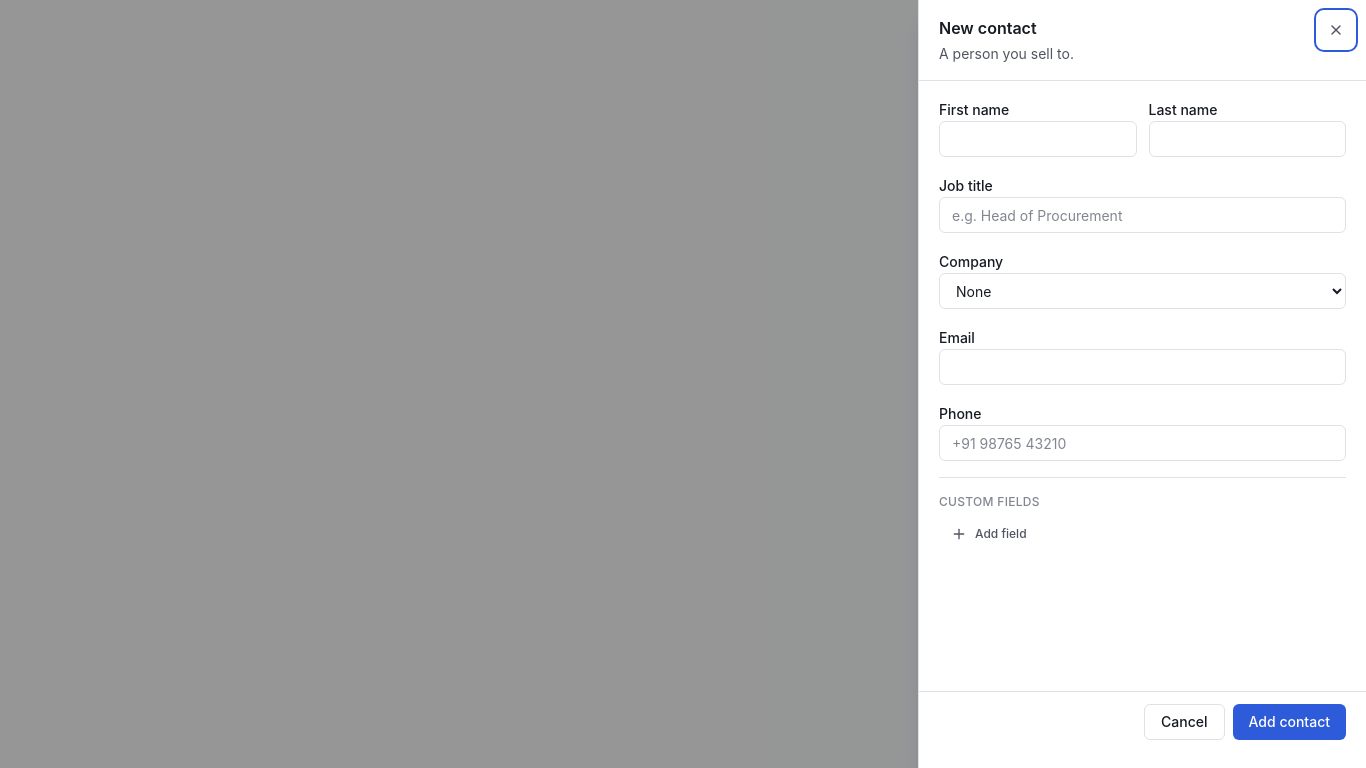
ContactSheet › asks before adding someone who may already be there
The width and height of the screenshot is (1366, 768).
Later steps or results of the test are not shown.
Type "Priya" into the field labelled "First name".
click(1038, 139); type("Priya")  # box x1=939 y1=121 x2=1136 y2=157
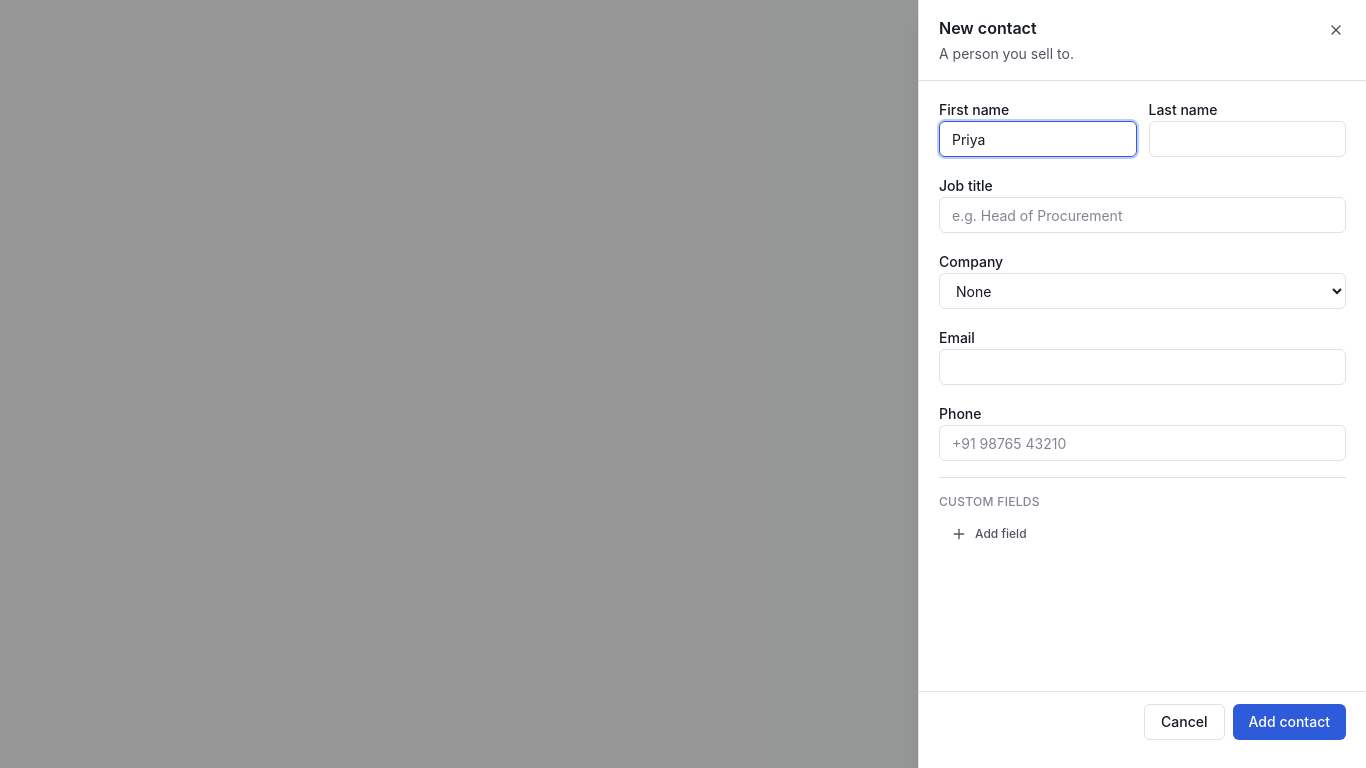
Type "priya@zenith.in" into the field labelled "Email".
click(1142, 367); type("priya@zenith.in")  # box x1=939 y1=349 x2=1346 y2=385
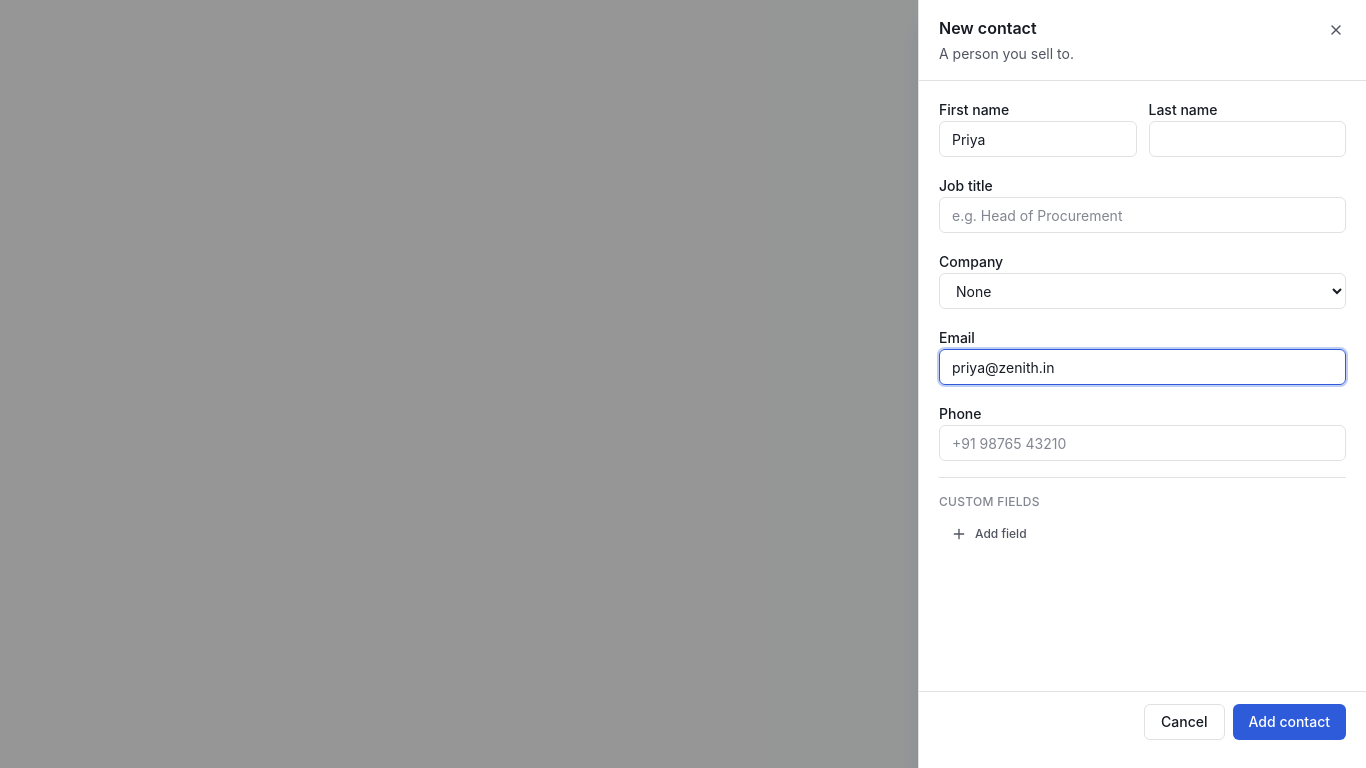
Click the button "Add contact".
click(1289, 722)  # box x1=1232 y1=704 x2=1346 y2=740
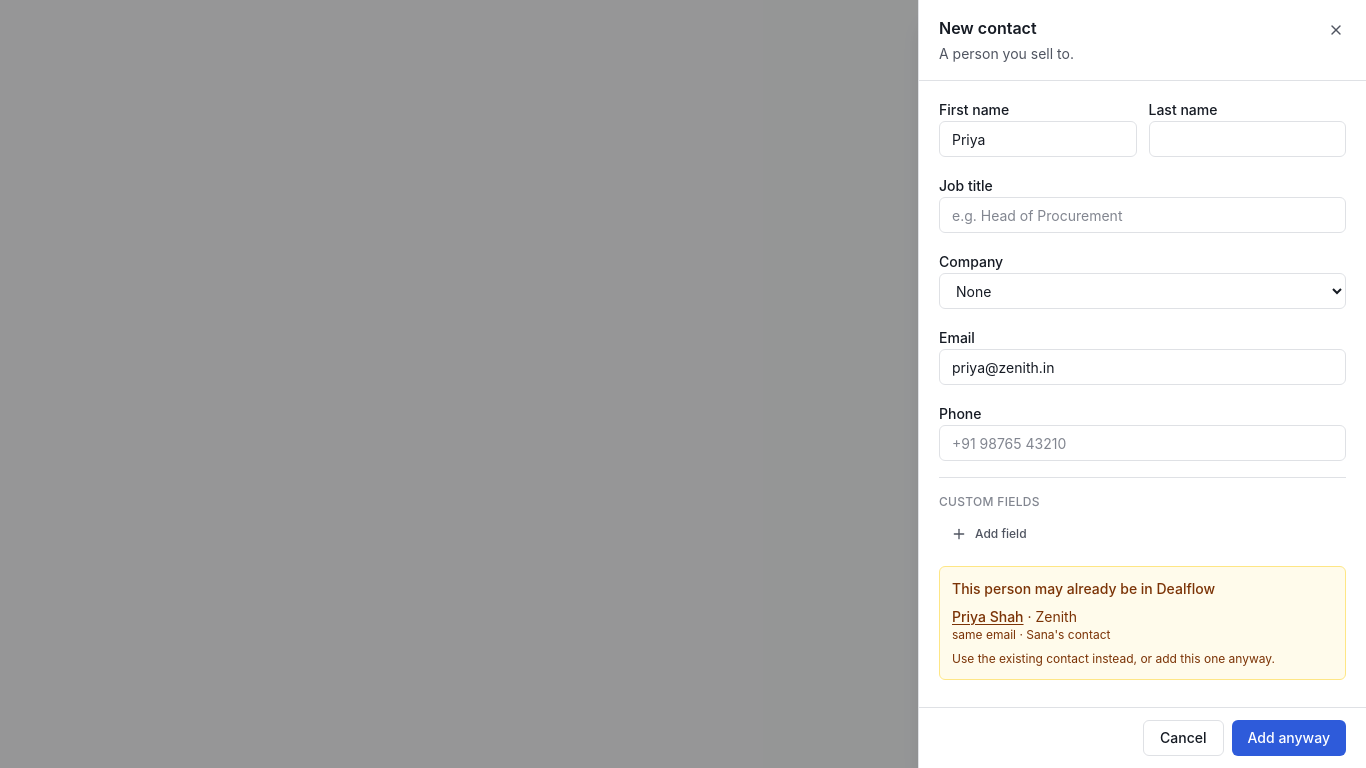
Check: the message shows "This person may already be in Dealflow", box x1=952 y1=580 x2=1215 y2=597
Check: the message shows "same email · Sana's contact", box x1=939 y1=566 x2=1346 y2=680
